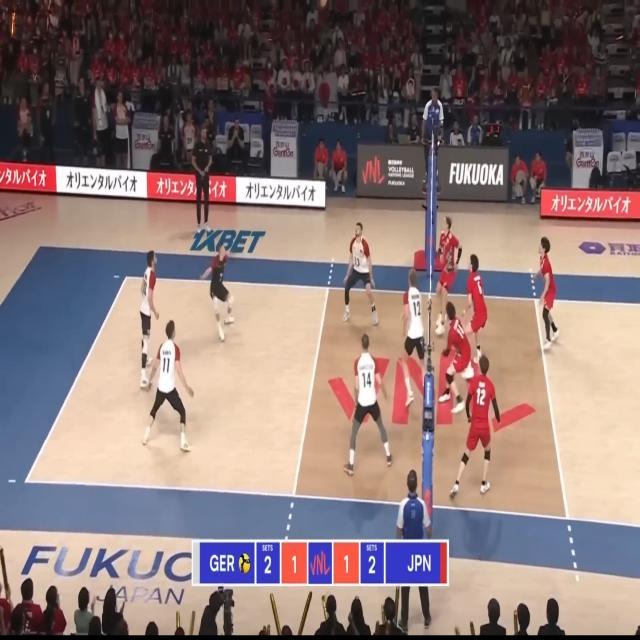ball: (319, 0, 327, 7)
